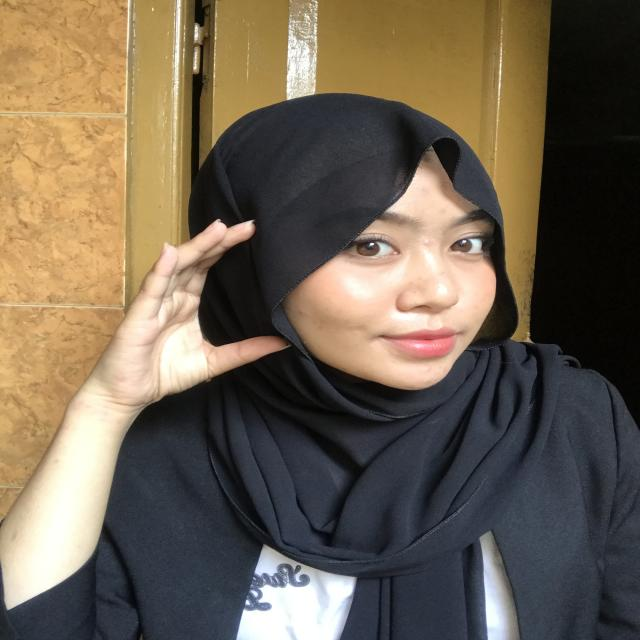mendengar: (105, 212, 295, 410)
